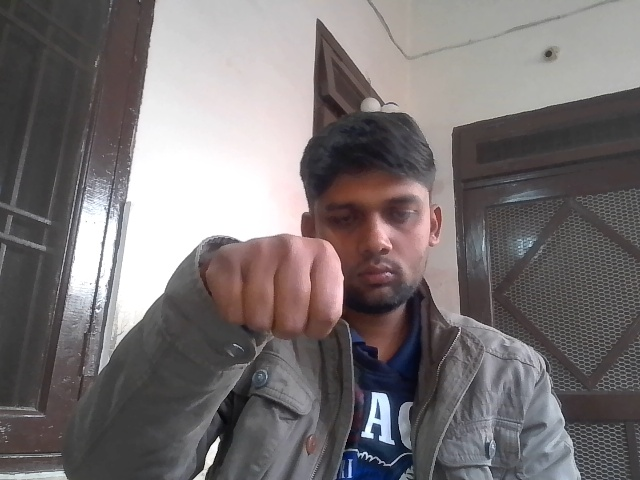Yes: (197, 231, 366, 355)
